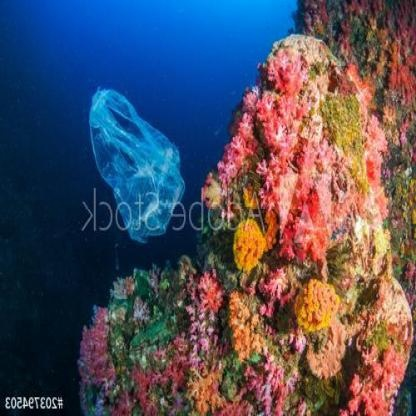pbag: (88, 86, 186, 245)
